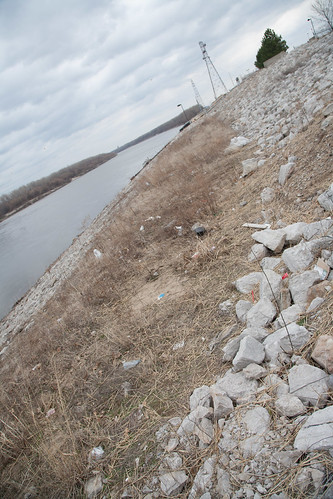river: (1, 121, 184, 328)
rocks: (179, 54, 333, 477)
sky: (12, 1, 253, 167)
tree: (256, 28, 295, 69)
